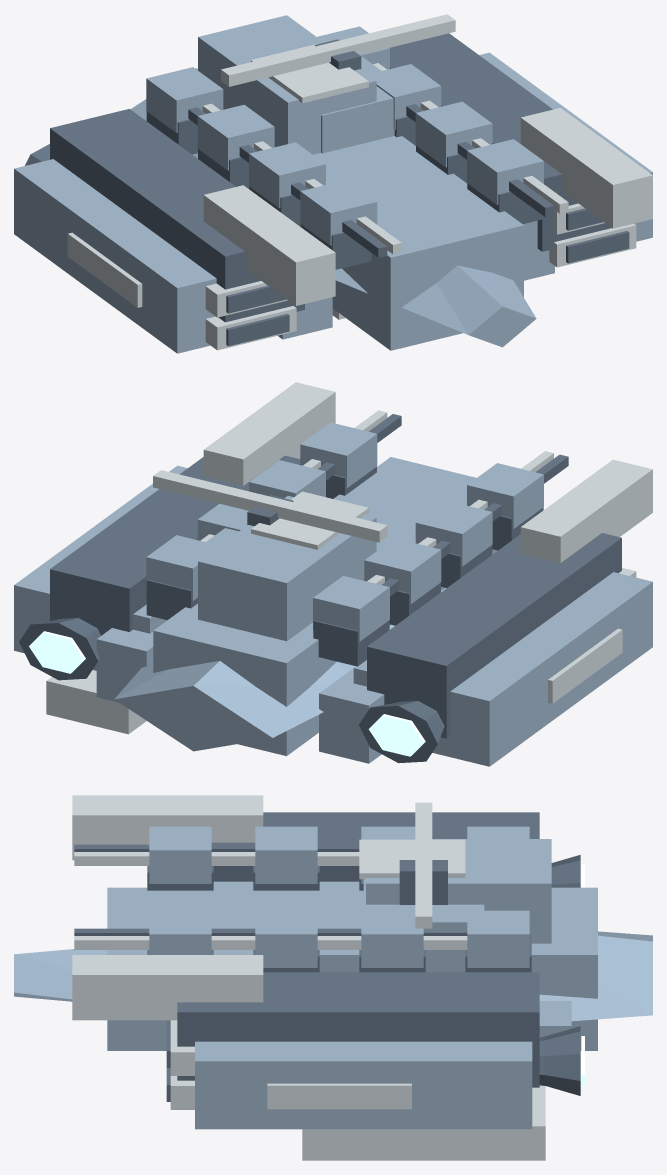
3 views of the same model, one above another, from view 1: azimuth 30°, elevation 25°; view 2: azimuth 150°, elevation 25°; view 3: azimuth 270°, elevation 25° (orthographic). The views are drawn at different scales.
Size of the model in its own units: 17.45 by 7.25 by 19.28.
